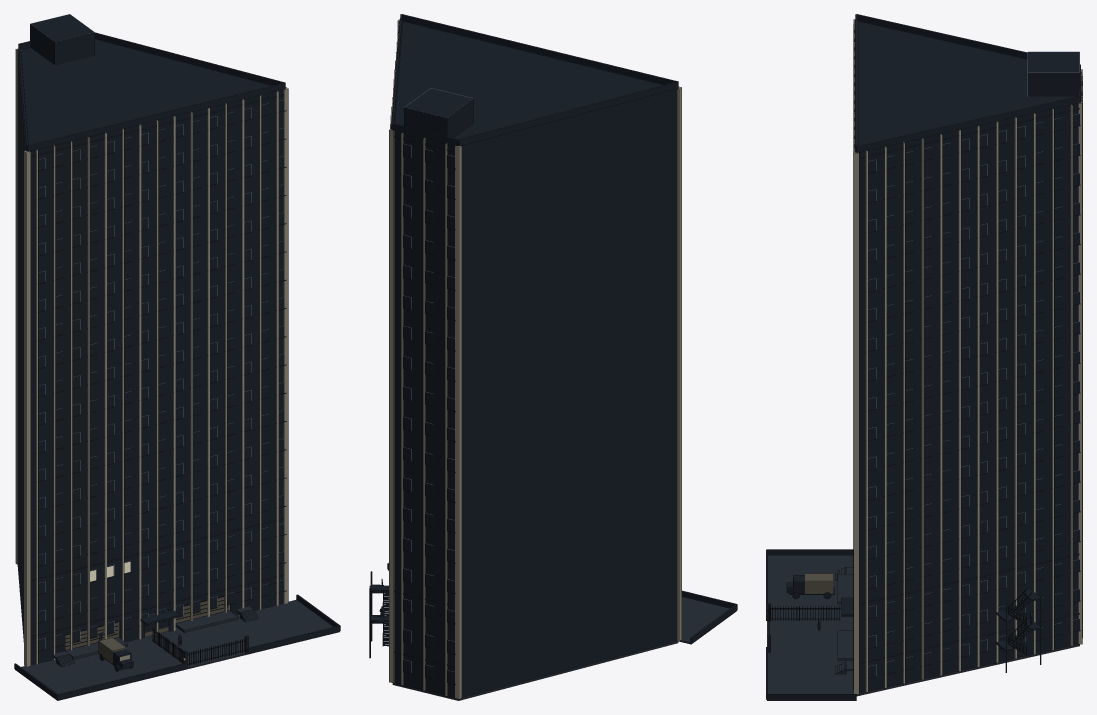
File: 货运大楼潜入.fbx
3 views of the same model, side by side, from view 1: azimuth 30°, elevation 25°; view 2: azimuth 150°, elevation 25°; view 3: azimuth 270°, elevation 25° (orthographic). The views are drawn at different scales.
Parts seen in each view (by area): view 1: 外形壳体_正立面上层墙, 外形壳体_窗洞深色面, 外形壳体_通高壁带, 描线_随卡_货运大楼潜入_货运大楼潜入-外形, 外形壳体_屋顶, 一楼空间_后院地坪, 外形壳体_转角柱, 外形壳体_完整大楼外墙, 外形壳体_屋顶女儿墙, 外形壳体_端部楼梯塔, 描线_随卡_货运大楼潜入_货运大楼潜入-外形_暗, 外形壳体_窗下沿 (+6 smaller); view 2: 外形壳体_完整大楼外墙, 外形壳体_屋顶, 外形壳体_转角柱, 描线_随卡_货运大楼潜入_货运大楼潜入-外形, 外形壳体_窗洞深色面, 外形壳体_通高壁带, 外形壳体_屋顶女儿墙, 外形壳体_端部楼梯塔, 一楼空间_后院地坪, 外形壳体_建筑底座, 一楼空间_后院矮围墙; view 3: 外形壳体_完整大楼外墙, 外形壳体_窗洞深色面, 外形壳体_通高壁带, 描线_随卡_货运大楼潜入_货运大楼潜入-外形, 外形壳体_屋顶, 一楼空间_后院地坪, 外形壳体_转角柱, 外形壳体_屋顶女儿墙, 外形壳体_端部楼梯塔, 外形壳体_窗下沿, 描线_随卡_货运大楼潜入_货运大楼潜入-一楼, 描线_随卡_货运大楼潜入_货运大楼潜入-外形_暗 (+5 smaller).
Part boxes in pixels (box(x1,y1,x2,y2)): 外形壳体_正立面上层墙: box(30, 89, 283, 642); 外形壳体_窗洞深色面: box(38, 99, 283, 650); 外形壳体_通高壁带: box(36, 91, 278, 664); 描线_随卡_货运大楼潜入_货运大楼潜入-外形: box(15, 26, 288, 666); 外形壳体_屋顶: box(21, 39, 271, 144); 一楼空间_后院地坪: box(16, 600, 339, 700); 外形壳体_转角柱: box(16, 49, 288, 666); 外形壳体_完整大楼外墙: box(17, 47, 270, 639); 外形壳体_屋顶女儿墙: box(18, 32, 285, 151); 外形壳体_端部楼梯塔: box(30, 14, 94, 64); 描线_随卡_货运大楼潜入_货运大楼潜入-外形_暗: box(38, 100, 283, 648); 外形壳体_窗下沿: box(38, 110, 286, 651); 外形壳体_完整大楼外墙: box(391, 21, 677, 697); 外形壳体_屋顶: box(394, 22, 663, 138); 外形壳体_转角柱: box(389, 19, 681, 698); 描线_随卡_货运大楼潜入_货运大楼潜入-外形: box(389, 14, 681, 699); 外形壳体_窗洞深色面: box(403, 144, 454, 683); 外形壳体_通高壁带: box(390, 24, 447, 695); 外形壳体_屋顶女儿墙: box(392, 14, 678, 145); 外形壳体_端部楼梯塔: box(404, 88, 473, 137); 一楼空间_后院地坪: box(388, 569, 735, 643); 外形壳体_建筑底座: box(393, 641, 677, 700); 一楼空间_后院矮围墙: box(387, 563, 737, 642); 外形壳体_完整大楼外墙: box(858, 21, 1081, 693); 外形壳体_窗洞深色面: box(868, 113, 1079, 677); 外形壳体_通高壁带: box(853, 24, 1082, 692); 描线_随卡_货运大楼潜入_货运大楼潜入-外形: box(768, 14, 1082, 694); 外形壳体_屋顶: box(857, 21, 1074, 145); 一楼空间_后院地坪: box(767, 555, 856, 700); 外形壳体_转角柱: box(854, 19, 1082, 694); 外形壳体_屋顶女儿墙: box(855, 14, 1080, 152); 外形壳体_端部楼梯塔: box(1028, 52, 1079, 96); 外形壳体_窗下沿: box(865, 125, 1080, 678); 描线_随卡_货运大楼潜入_货运大楼潜入-一楼: box(766, 550, 1040, 700); 描线_随卡_货运大楼潜入_货运大楼潜入-外形_暗: box(868, 113, 1079, 675).
Bounding box in the file's own units: 4627 × 8420 × 4254.
